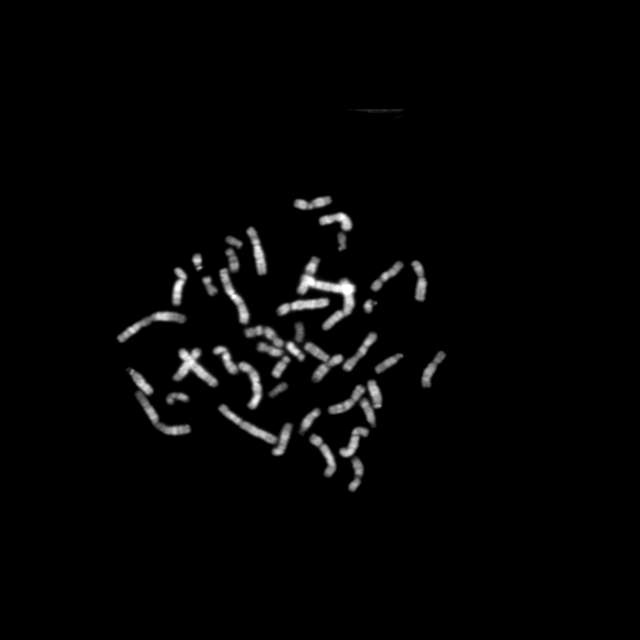chromosome: (136, 390, 190, 434), (218, 403, 276, 443), (117, 312, 185, 343), (324, 279, 354, 331), (220, 269, 248, 323), (179, 349, 217, 386), (344, 333, 376, 371), (310, 434, 336, 476), (328, 384, 364, 414), (240, 362, 262, 408), (173, 345, 200, 379), (278, 298, 328, 316), (296, 256, 318, 296), (303, 276, 357, 292), (421, 352, 445, 388), (339, 428, 368, 457), (372, 262, 402, 290), (314, 354, 342, 384), (248, 228, 266, 274), (245, 326, 283, 346), (128, 368, 154, 394), (215, 346, 238, 374), (272, 424, 292, 456), (318, 213, 352, 230), (376, 353, 404, 373), (412, 262, 426, 300), (300, 407, 320, 433), (304, 341, 330, 361), (172, 268, 186, 304), (294, 197, 332, 210), (348, 458, 362, 492), (361, 398, 377, 426), (368, 380, 382, 408), (258, 342, 284, 356), (286, 342, 304, 362), (274, 356, 290, 376), (226, 248, 238, 272), (203, 277, 217, 295), (268, 384, 288, 396), (168, 392, 188, 404), (294, 321, 304, 341), (365, 298, 377, 314), (227, 236, 243, 248), (192, 253, 202, 271), (336, 234, 346, 250)
